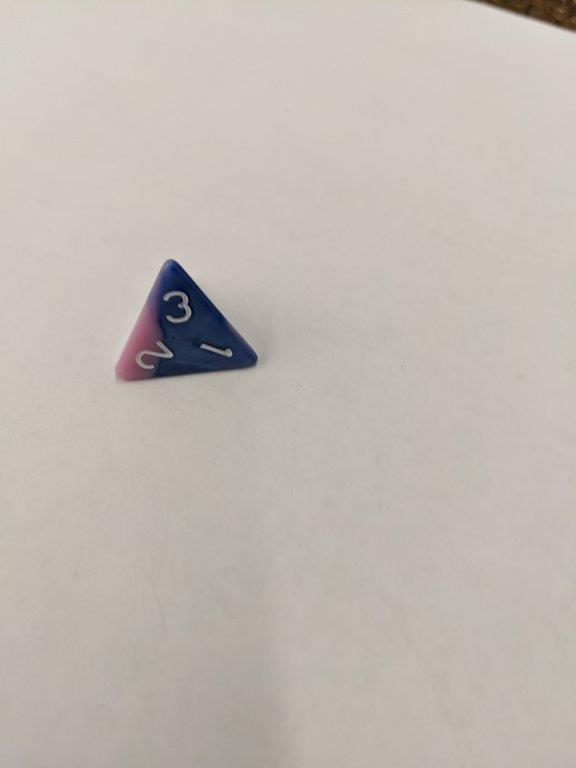d4-3: (112, 257, 261, 384)
